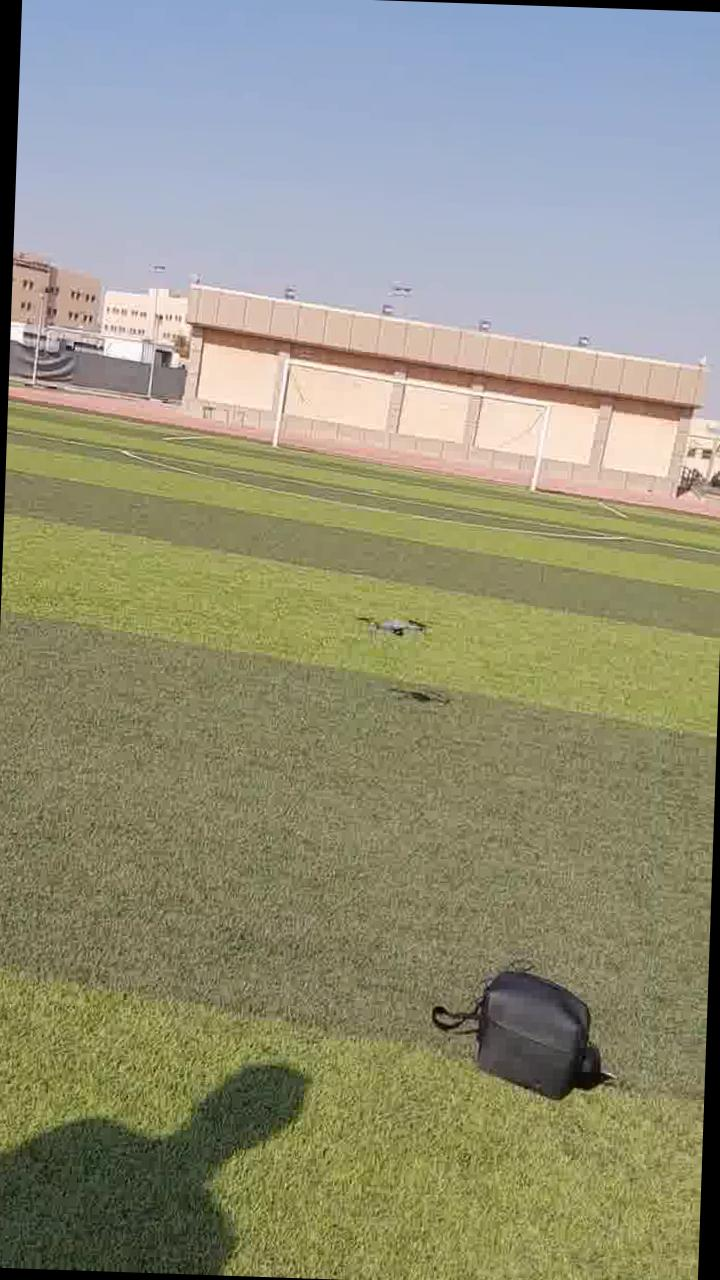drone: (348, 580, 443, 654)
